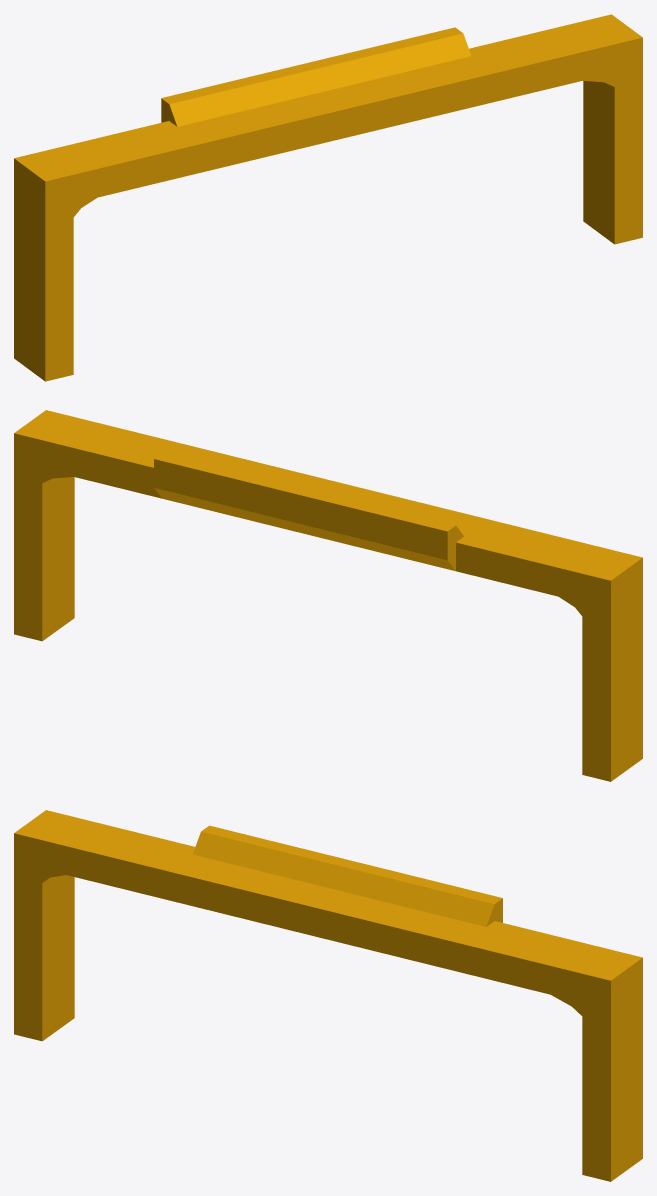
Rendered from 14mTrack_Blockout_Checkpoint.fbx.
3 renders of one model, top to bottom at view 1: azimuth 30°, elevation 25°; view 2: azimuth 150°, elevation 25°; view 3: azimuth 330°, elevation 25°, orthographic.
Parts seen in each view (by area): view 1: pCube40; view 2: pCube40; view 3: pCube40.
Boxes of the visible parts, left/top/right/bottom form: pCube40: left=14, top=14, right=642, bottom=381; pCube40: left=14, top=410, right=642, bottom=781; pCube40: left=14, top=810, right=642, bottom=1181.
Bounding box in the file's own units: 2175 × 756 × 260.
